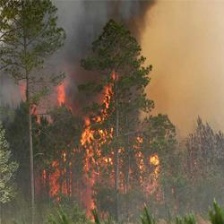fire: (79, 88, 153, 190)
smoke: (48, 1, 156, 67)
